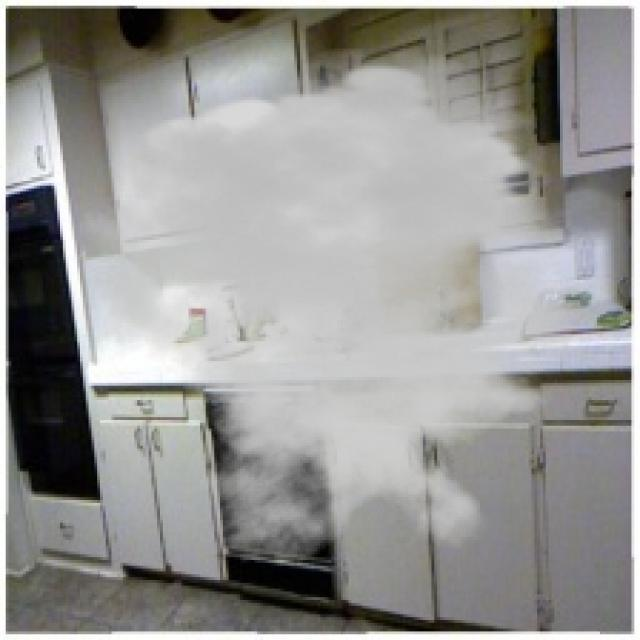Smoke: (68, 46, 638, 568)
